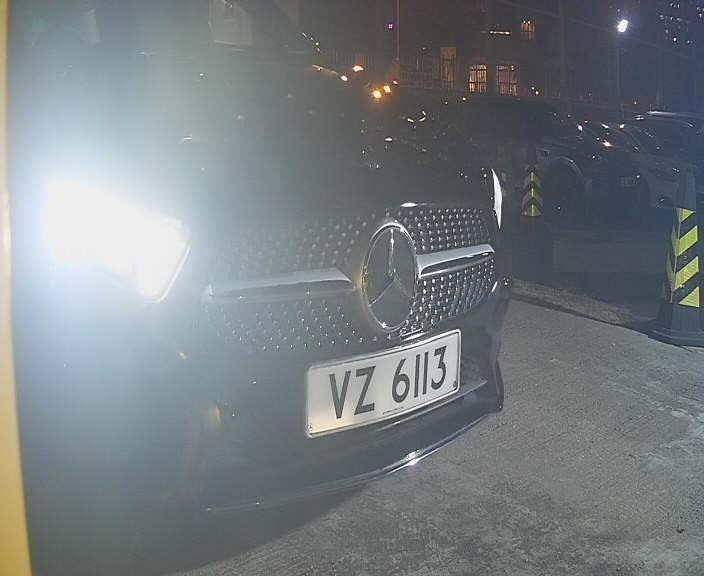Car: (1, 19, 569, 548)
License Plate: (290, 320, 468, 460)
